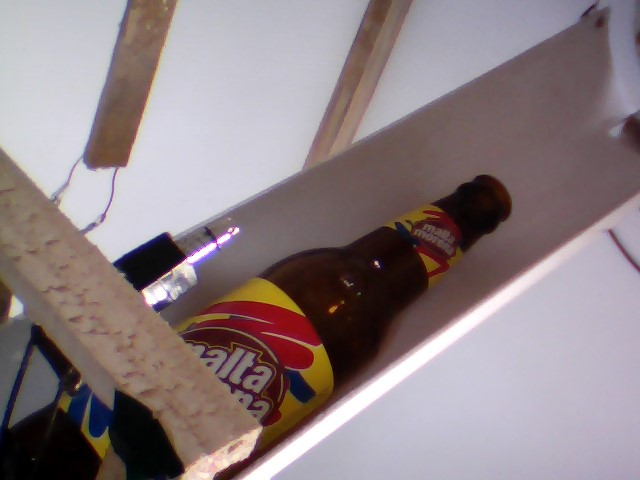vidrio: (180, 167, 524, 444)
